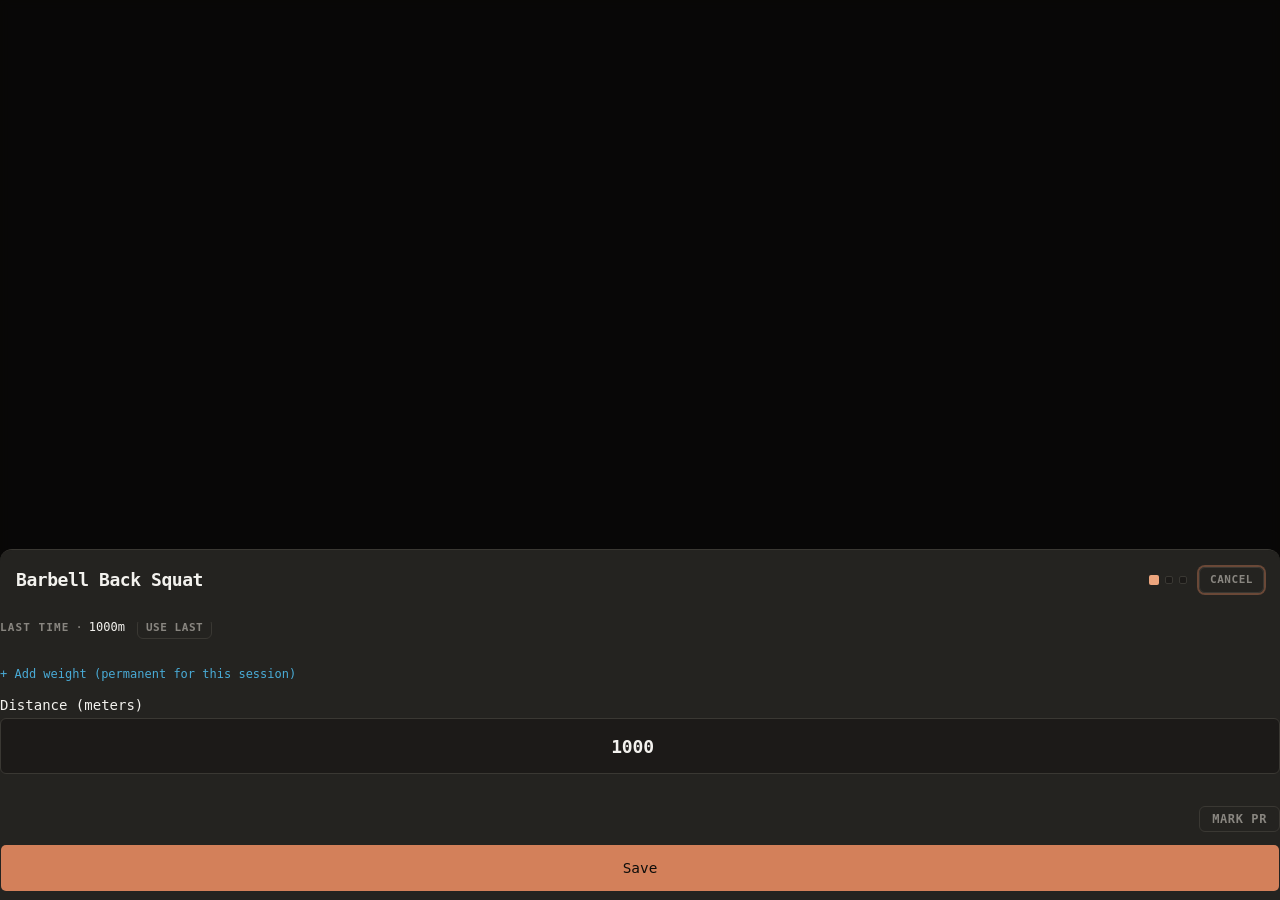
Test: SetLogSheet — inline context › 'Use last' chip populates distance from lastTime when tapped on a distance target
Replace the text in the number field labelled "Distance (meters)" with "250" at (640, 746), box [0, 718, 1279, 774]
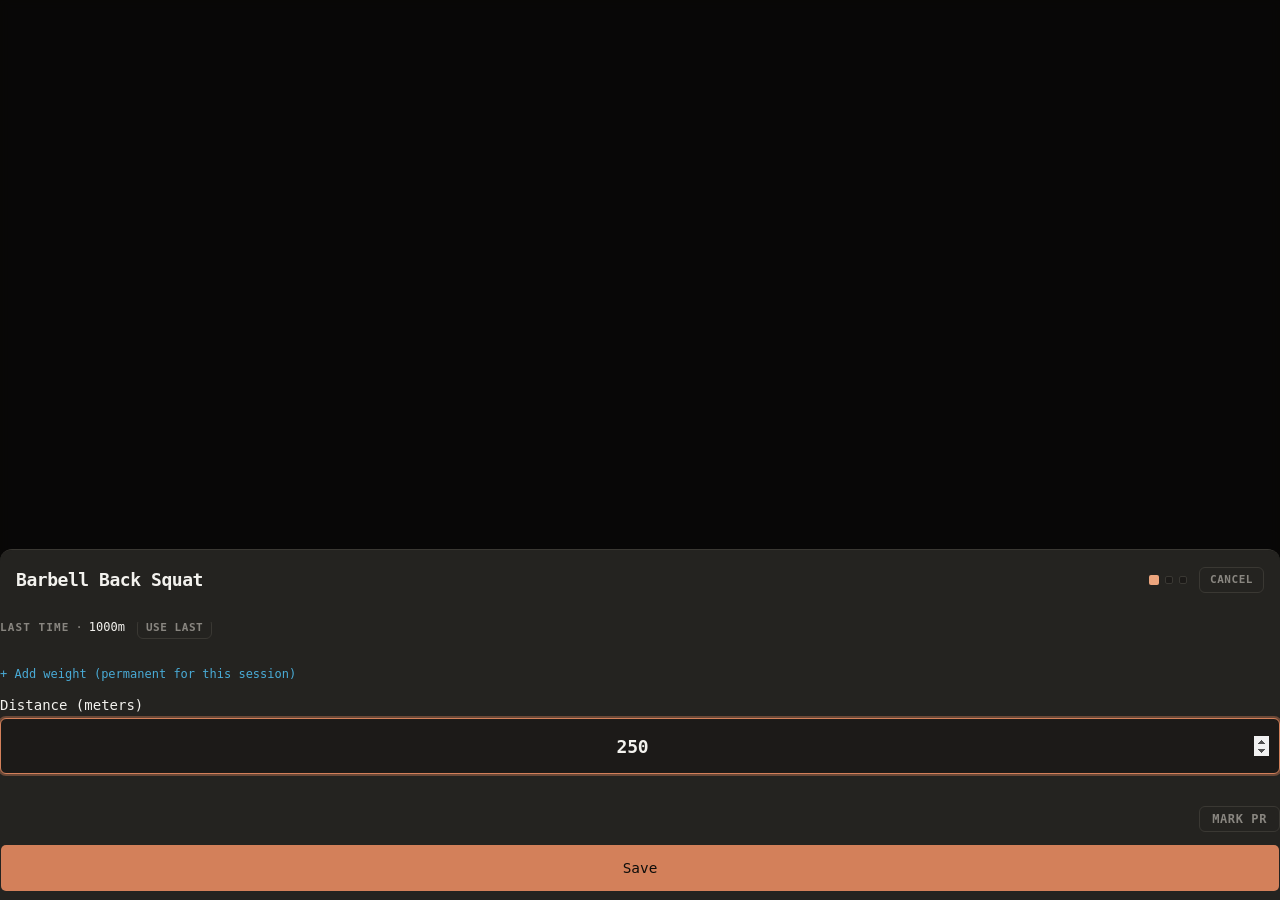
Click the button "Use last" at (175, 629), box [137, 618, 212, 639]
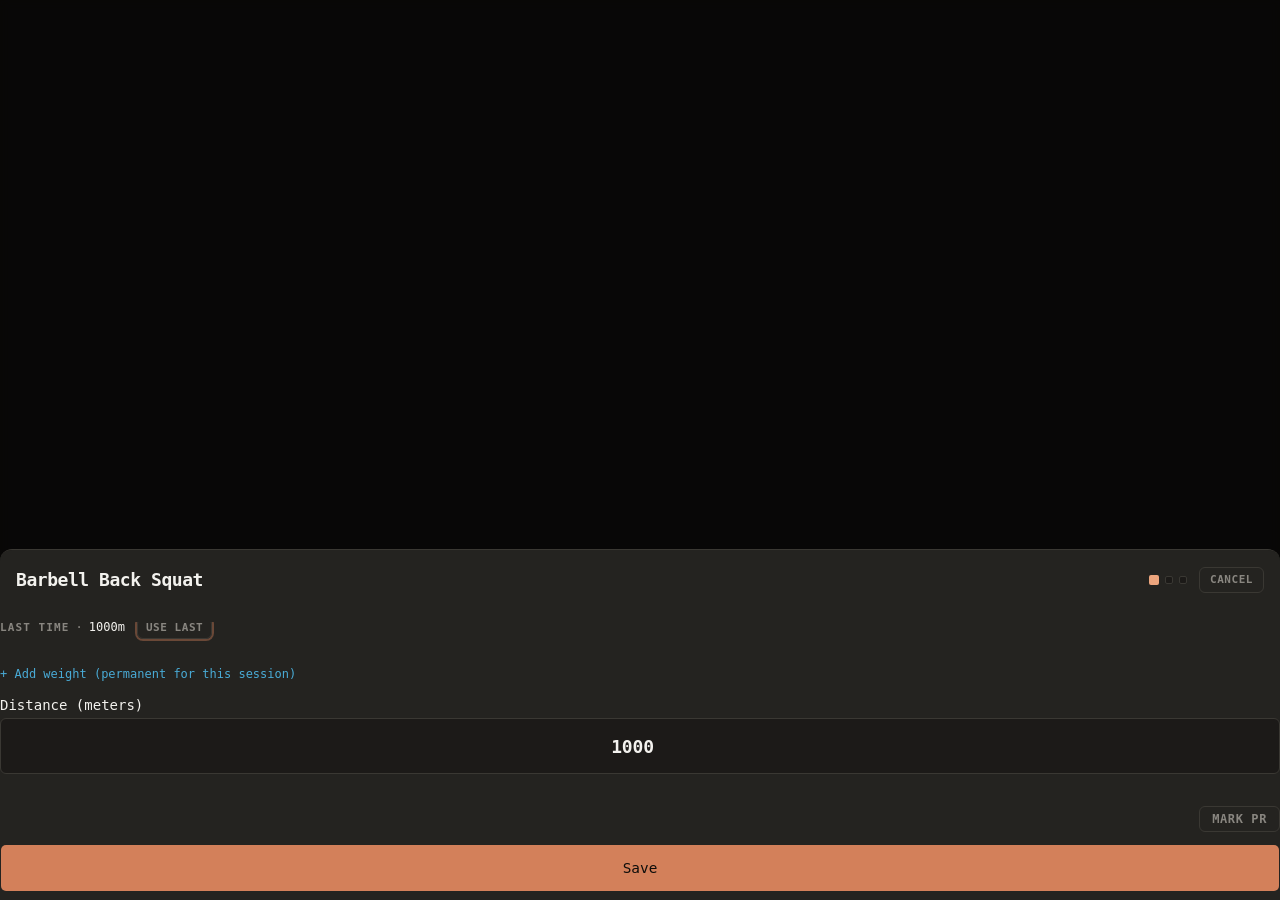
Result: the number field labelled "Distance (meters)" holds "1000" at [0, 718, 1279, 774]
